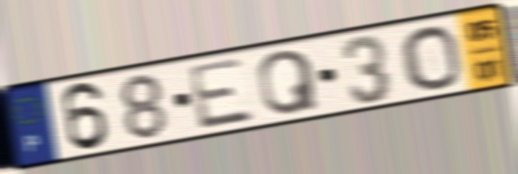3: (340, 33, 392, 107)
6: (59, 80, 111, 153)
8: (115, 71, 171, 142)
E: (185, 54, 258, 132)
O: (397, 24, 465, 92)
Q: (256, 48, 322, 118)
